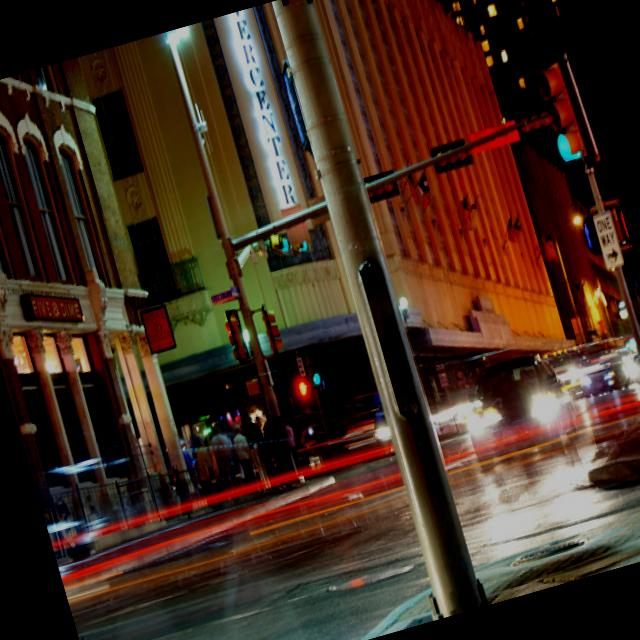Vehicle: (454, 344, 585, 474), (572, 338, 633, 399), (554, 358, 589, 402), (617, 344, 640, 388), (296, 420, 327, 447)
